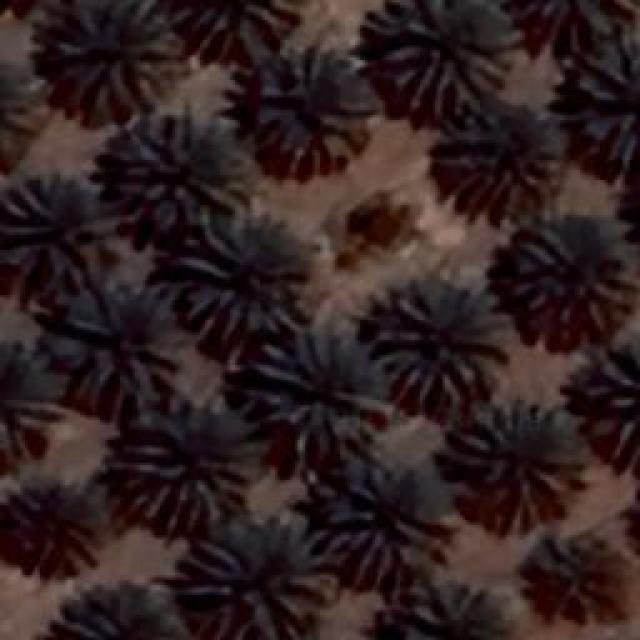PalmTree: (242, 322, 388, 460), (180, 512, 338, 638), (110, 395, 262, 523), (102, 110, 255, 232), (312, 455, 452, 583), (445, 400, 585, 528), (370, 280, 510, 405), (175, 212, 310, 338), (252, 40, 370, 175), (500, 215, 632, 335), (52, 0, 186, 118), (115, 24, 572, 58), (50, 280, 180, 398), (430, 95, 568, 205), (380, 0, 515, 110), (0, 175, 125, 288), (521, 520, 629, 628), (570, 30, 638, 168), (0, 484, 108, 568), (382, 582, 516, 640), (584, 330, 638, 468), (0, 336, 50, 469), (61, 592, 189, 640), (0, 51, 45, 167), (135, 29, 234, 48)
